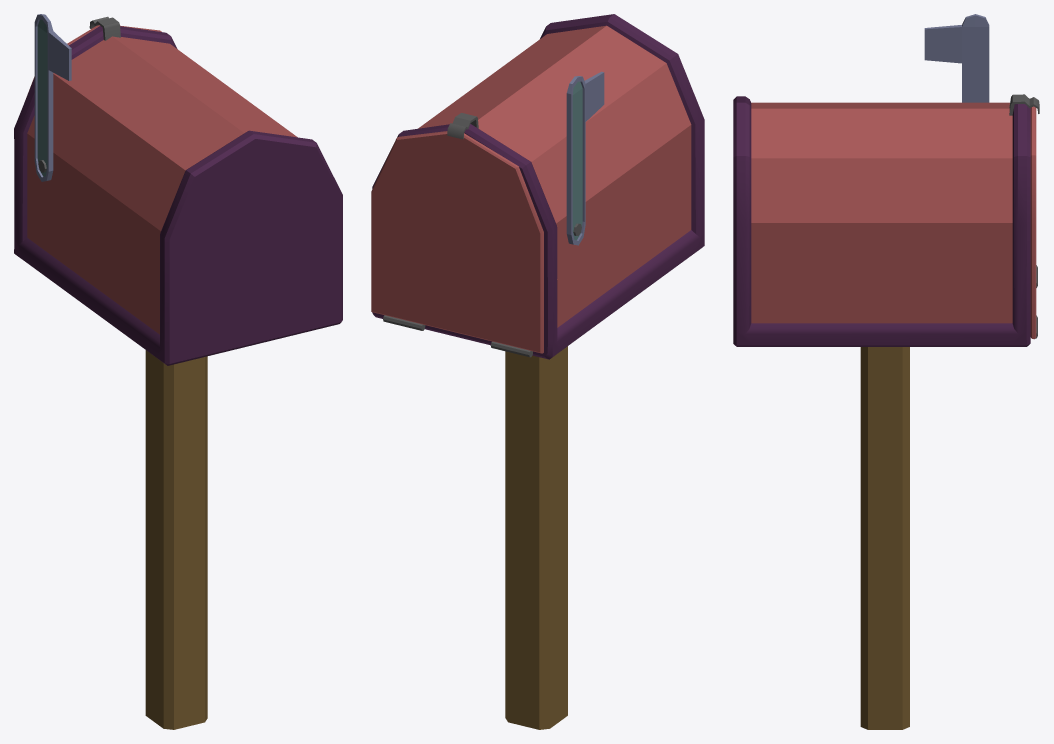
The model's file is Buzon_cerrado.fbx.
3 renders of one model, left to right at view 1: azimuth 30°, elevation 25°; view 2: azimuth 150°, elevation 25°; view 3: azimuth 270°, elevation 25°, orthographic. The views are drawn at different scales.
Visible parts, largest first — view 1: polySurface8; view 2: polySurface8; view 3: polySurface8.
Boxes of the visible parts, x1,y1,x2,y2 form: polySurface8: (14,14,342,729); polySurface8: (371,14,704,729); polySurface8: (733,14,1039,729).
Bounding box in the file's own units: 63.3 × 234 × 97.68.
